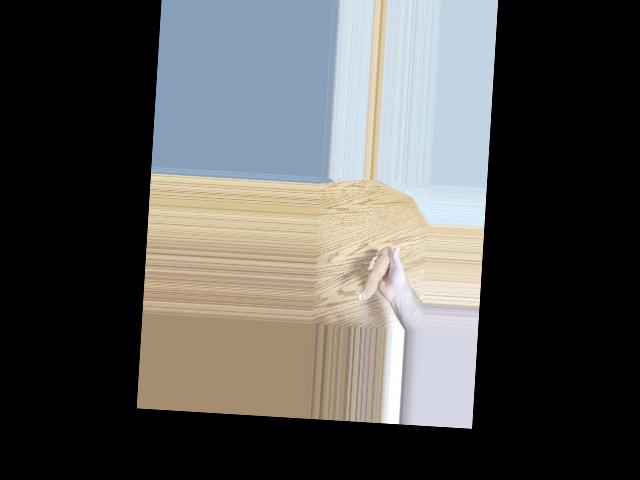sweet_potato: (359, 242, 391, 303)
